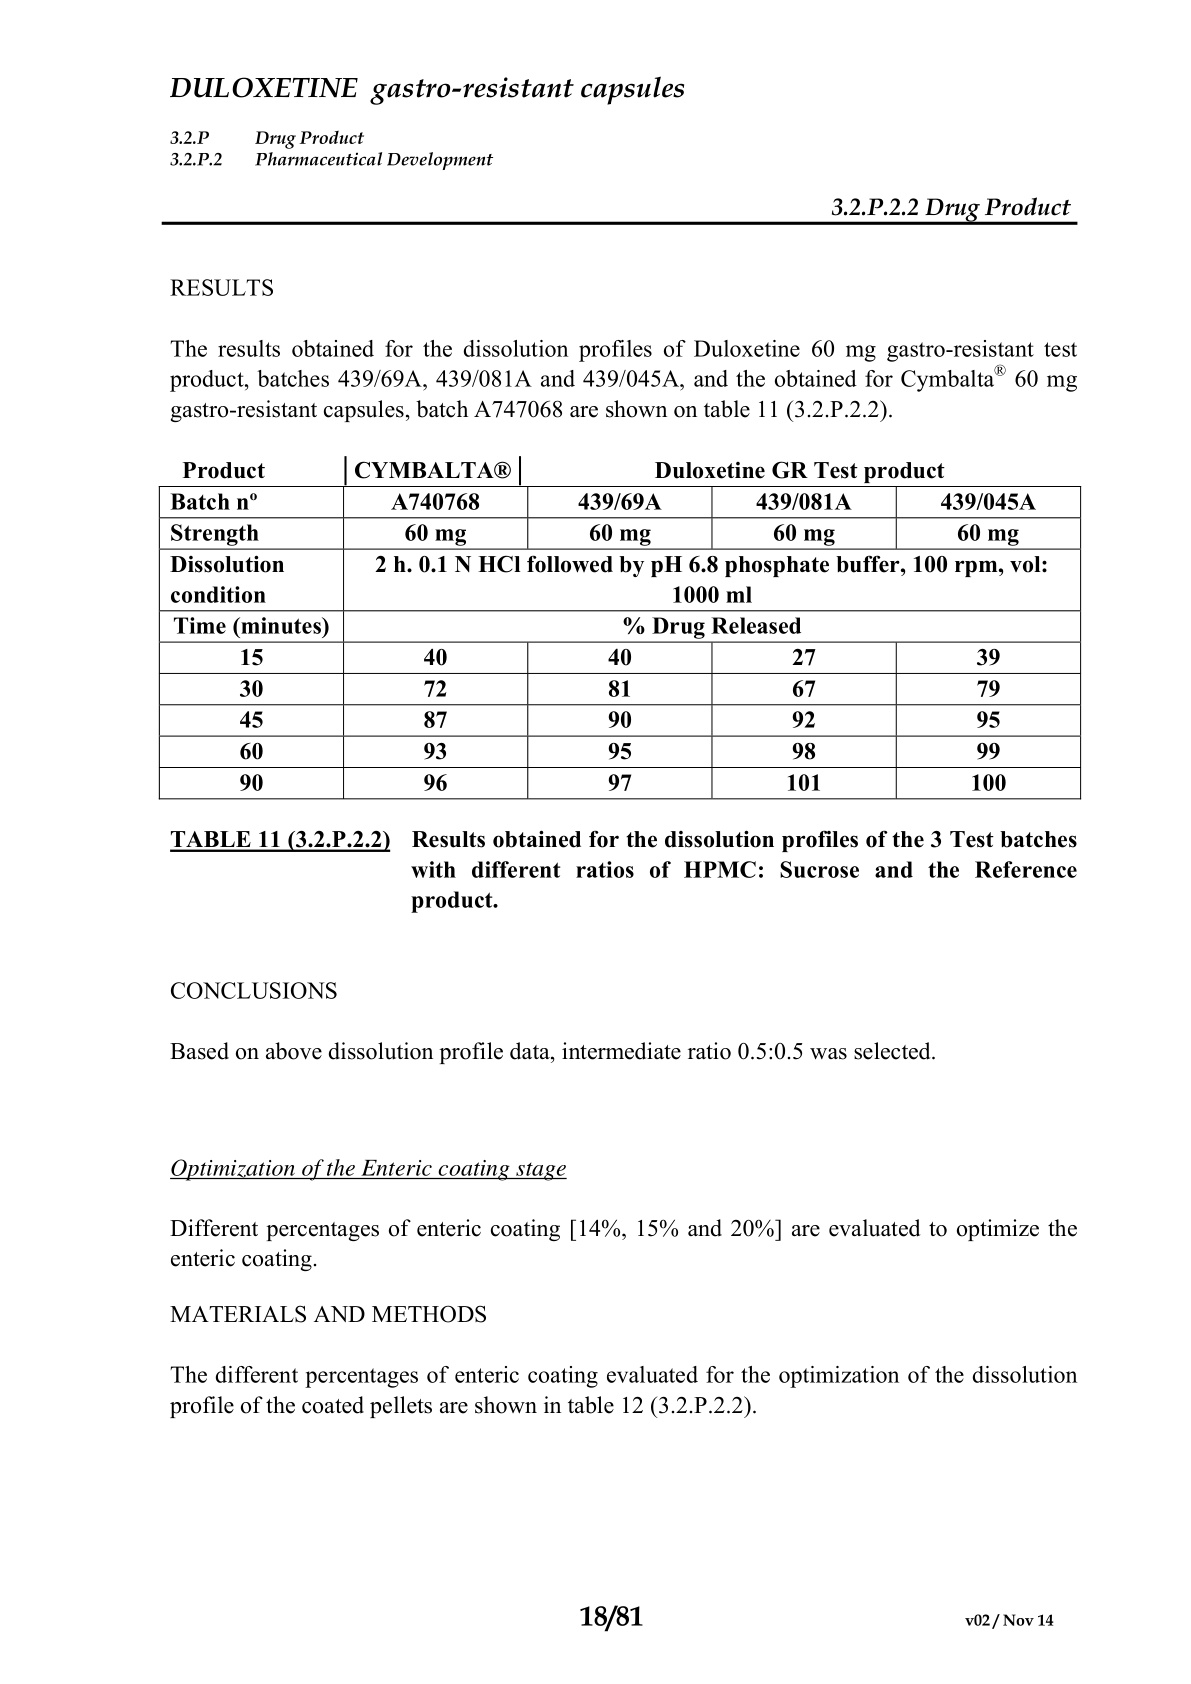partial_lined_merged_cells: (157, 455, 1083, 800)
